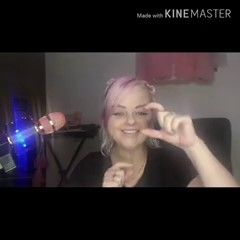C: (138, 97, 211, 149)
